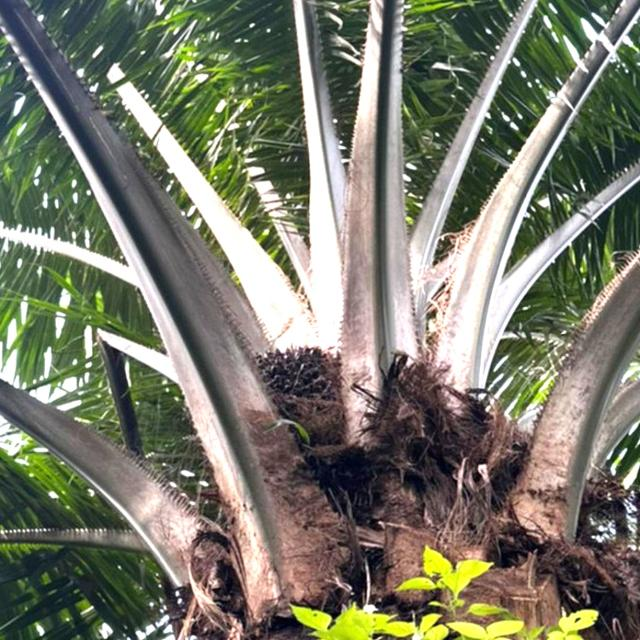unripe: (242, 335, 354, 421)
